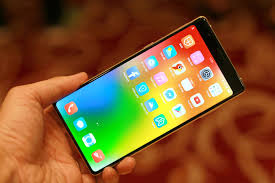bphone: (37, 13, 249, 177)
